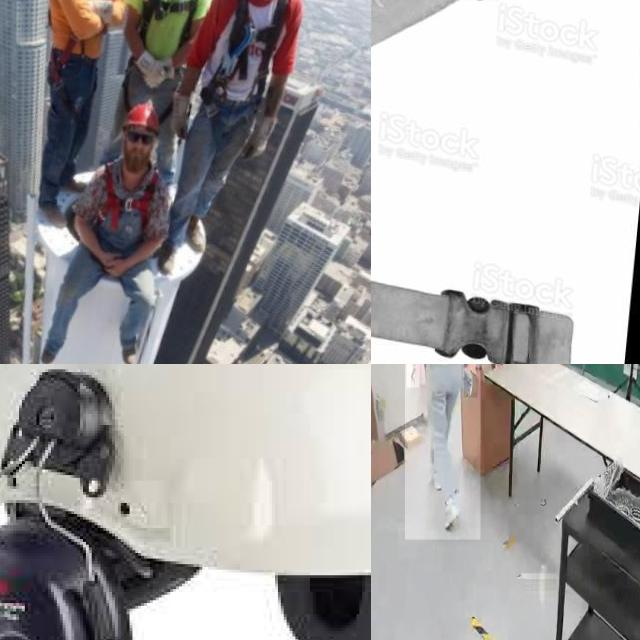Ear-protection: (0, 364, 371, 640)
Harness: (202, 0, 290, 110), (140, 0, 200, 48)
hand_glove: (464, 364, 478, 398), (406, 364, 419, 388)
person: (405, 364, 481, 540)
shoes: (438, 494, 464, 535)
